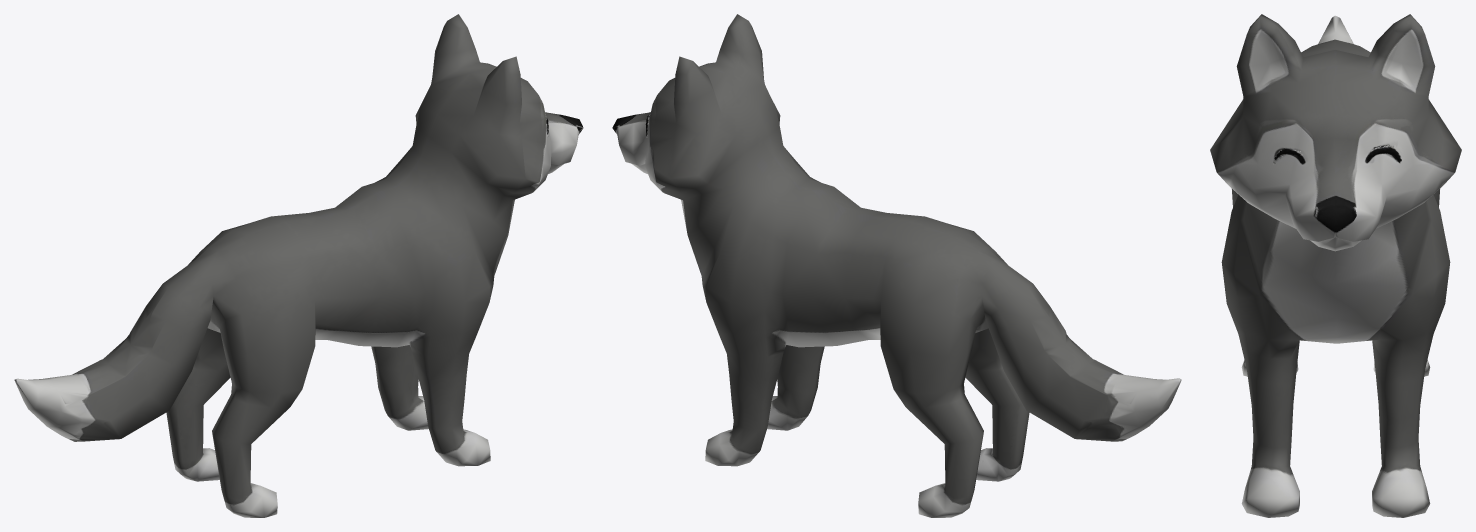
The picture shows the model from 3 angles, left to right: view 1: azimuth 30°, elevation 25°; view 2: azimuth 150°, elevation 25°; view 3: azimuth 270°, elevation 25°; orthographic projection. The views are drawn at different scales.
Visible parts, largest first — view 1: tripo_node_8b2880d4-6b13-4207-b4f2-2ce94664c8ce; view 2: tripo_node_8b2880d4-6b13-4207-b4f2-2ce94664c8ce; view 3: tripo_node_8b2880d4-6b13-4207-b4f2-2ce94664c8ce.
Boxes of the visible parts, x1,y1,x2,y2 form: tripo_node_8b2880d4-6b13-4207-b4f2-2ce94664c8ce: (14,14,583,517); tripo_node_8b2880d4-6b13-4207-b4f2-2ce94664c8ce: (612,14,1181,517); tripo_node_8b2880d4-6b13-4207-b4f2-2ce94664c8ce: (1210,14,1461,517).
Size of the model in its own units: 0.998 by 0.666 by 0.2949.
1 material, 1 textured.
